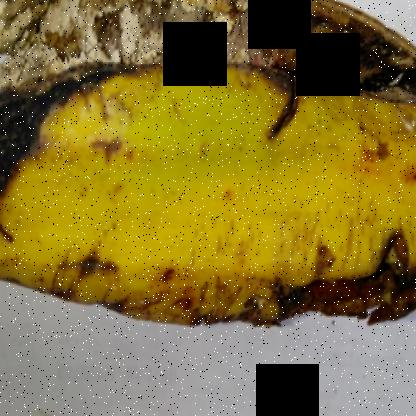rotten: (1, 0, 415, 357)
